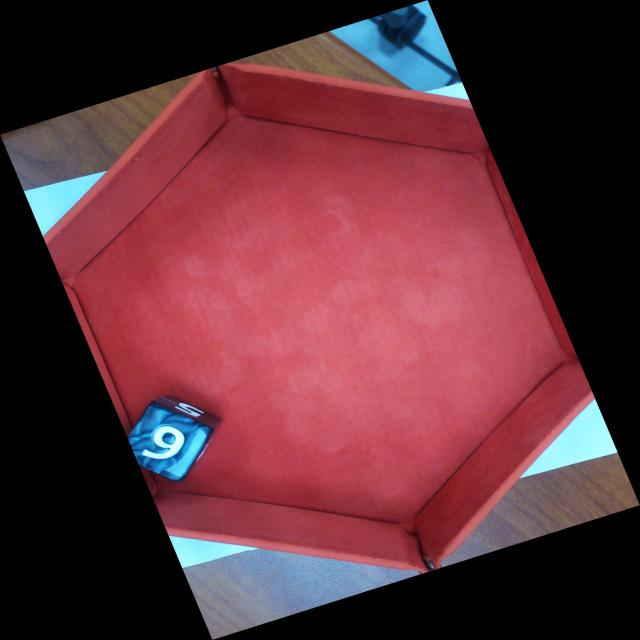dice: (127, 400, 215, 484)
